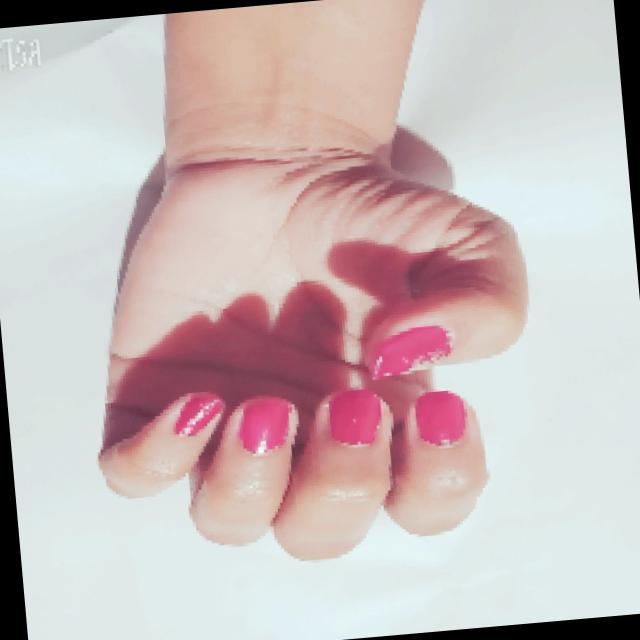Nail: (369, 324, 449, 378), (237, 397, 290, 453), (328, 388, 380, 444), (414, 390, 465, 445), (172, 391, 222, 434)
